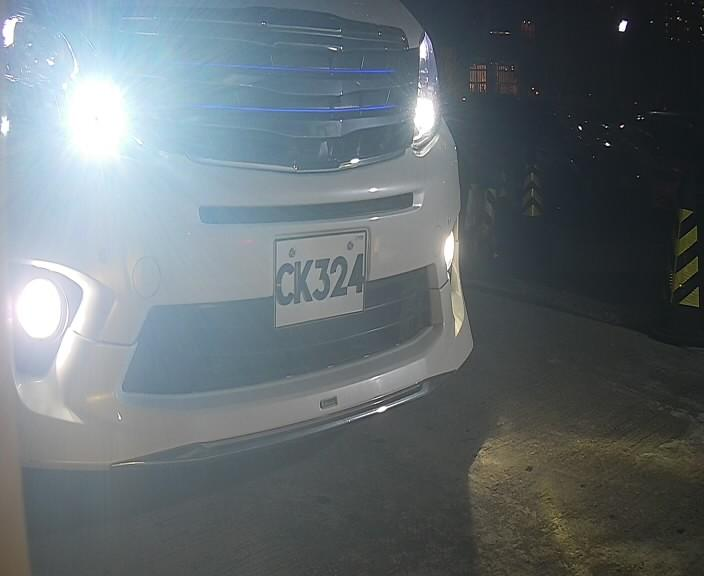License Plate: (251, 218, 386, 337)
